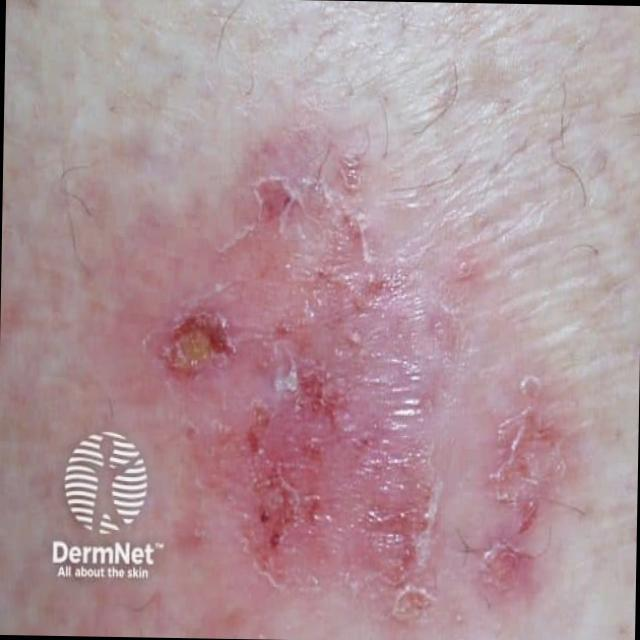Eczema: (158, 148, 572, 615)
